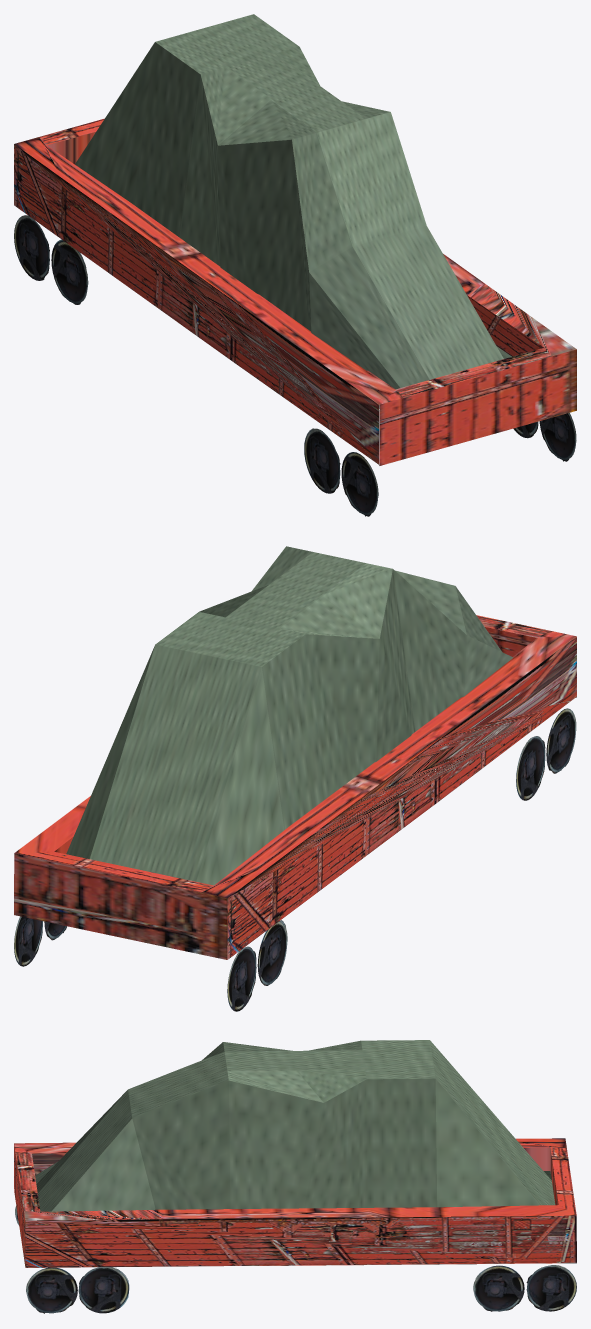
The model's file is cart0.fbx.
3 renders of one model, top to bottom at view 1: azimuth 30°, elevation 25°; view 2: azimuth 150°, elevation 25°; view 3: azimuth 270°, elevation 25°, orthographic. The views are drawn at different scales.
Parts seen in each view (by area): view 1: Cube.005, Circle.035, Circle.034, Circle.032, Circle.033, Circle.037; view 2: Cube.005, Circle.035, Circle.032, Circle.034, Circle.033, Circle.039; view 3: Cube.005, Circle.036, Circle.037, Circle.038, Circle.039.
Boxes of the visible parts, x1=… form: Cube.005: x1=14, y1=14, x2=576, y2=465; Circle.035: x1=304, y1=428, x2=340, y2=493; Circle.034: x1=341, y1=452, x2=378, y2=516; Circle.032: x1=14, y1=215, x2=49, y2=280; Circle.033: x1=51, y1=239, x2=88, y2=304; Circle.037: x1=539, y1=413, x2=576, y2=461; Cube.005: x1=14, y1=546, x2=576, y2=959; Circle.035: x1=516, y1=736, x2=545, y2=800; Circle.032: x1=227, y1=946, x2=256, y2=1011; Circle.034: x1=546, y1=708, x2=576, y2=773; Circle.033: x1=257, y1=920, x2=287, y2=985; Circle.039: x1=14, y1=916, x2=42, y2=966; Cube.005: x1=14, y1=1040, x2=576, y2=1267; Circle.036: x1=78, y1=1267, x2=129, y2=1313; Circle.037: x1=26, y1=1267, x2=77, y2=1313; Circle.038: x1=473, y1=1265, x2=524, y2=1311; Circle.039: x1=526, y1=1265, x2=576, y2=1311.
Size of the model in its own units: 728 by 905 by 2146.
2 materials, 2 textured.
